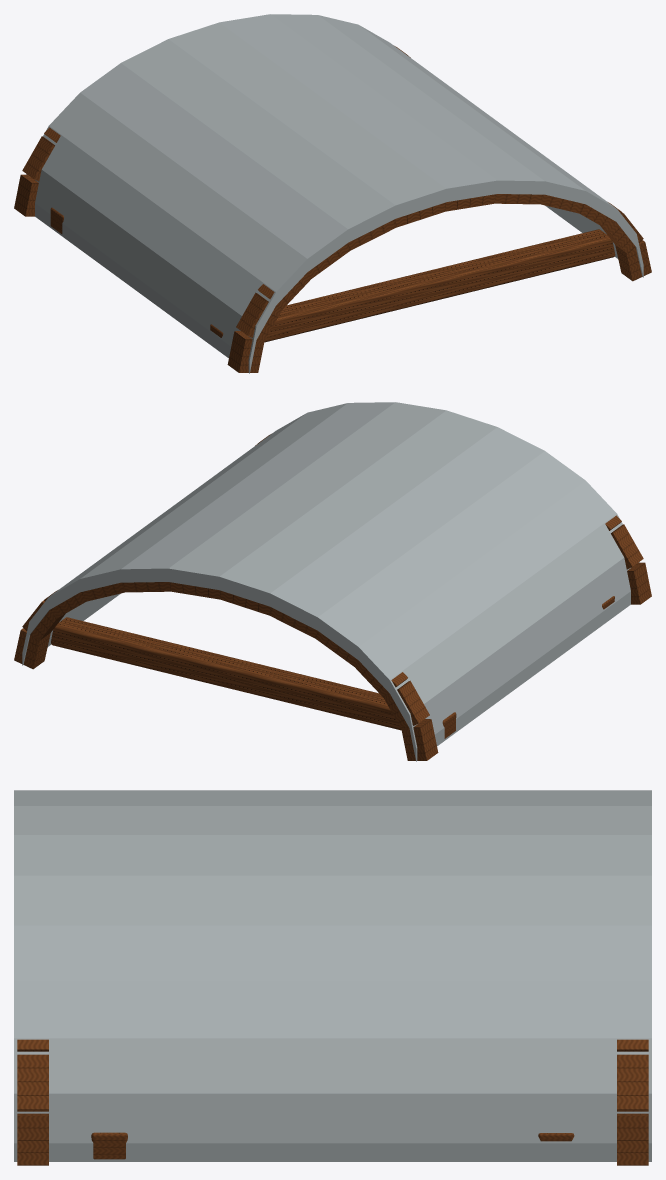
Rendered from bunker-shelter-construction-vault-ceiling-bc952ebf__23300.glb.
3 views of the same model, one above another, from view 1: azimuth 30°, elevation 25°; view 2: azimuth 150°, elevation 25°; view 3: azimuth 270°, elevation 25° (orthographic). The views are drawn at different scales.
Parts seen in each view (by area): view 1: vault-ceiling; view 2: vault-ceiling; view 3: vault-ceiling.
Part boxes in pixels (bbox=[...]): vault-ceiling: bbox=[14, 14, 651, 373]; vault-ceiling: bbox=[14, 402, 651, 761]; vault-ceiling: bbox=[14, 790, 651, 1165].
Size of the model in its own units: 2.1 by 0.6757 by 2.
2 materials, 1 textured.
